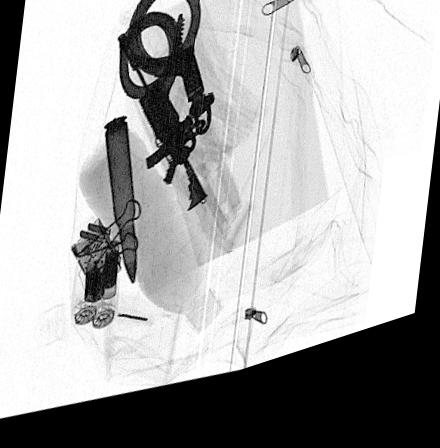Bullet: (102, 123, 137, 295)
Gun: (114, 39, 208, 226)
HandCuffs: (118, 0, 215, 174)
